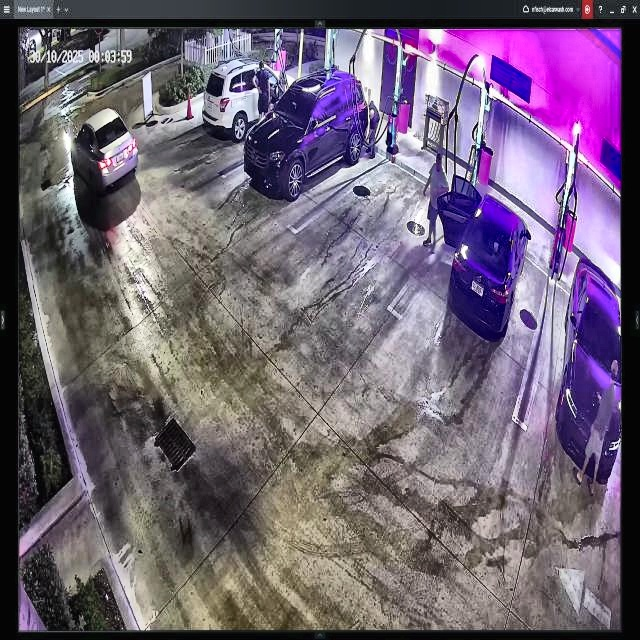Car: (246, 70, 369, 195), (436, 172, 529, 334), (72, 106, 138, 190)
